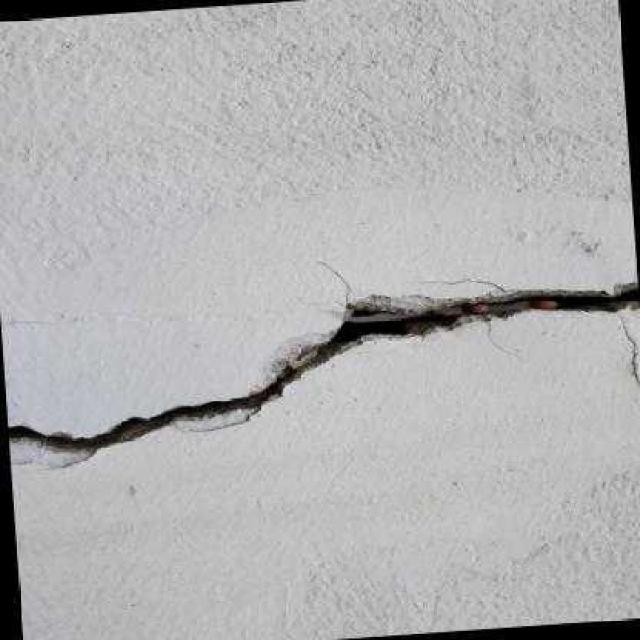D00: (7, 289, 640, 450)
